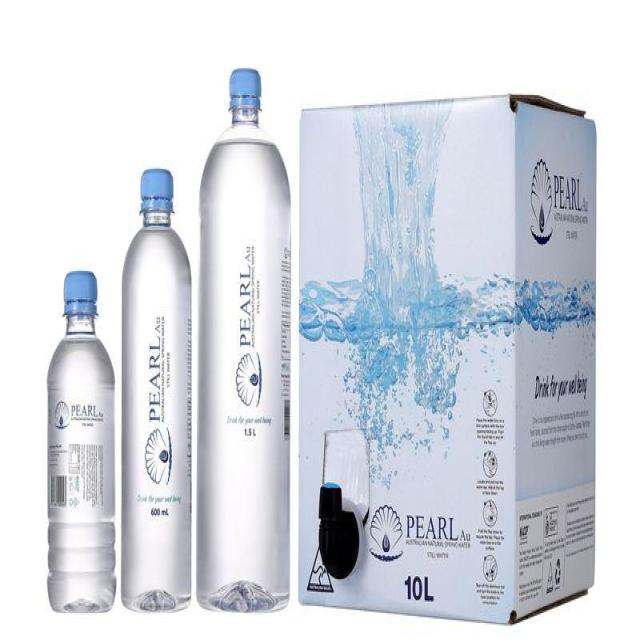bottle: (196, 63, 296, 625), (117, 157, 195, 618), (39, 264, 115, 618)
